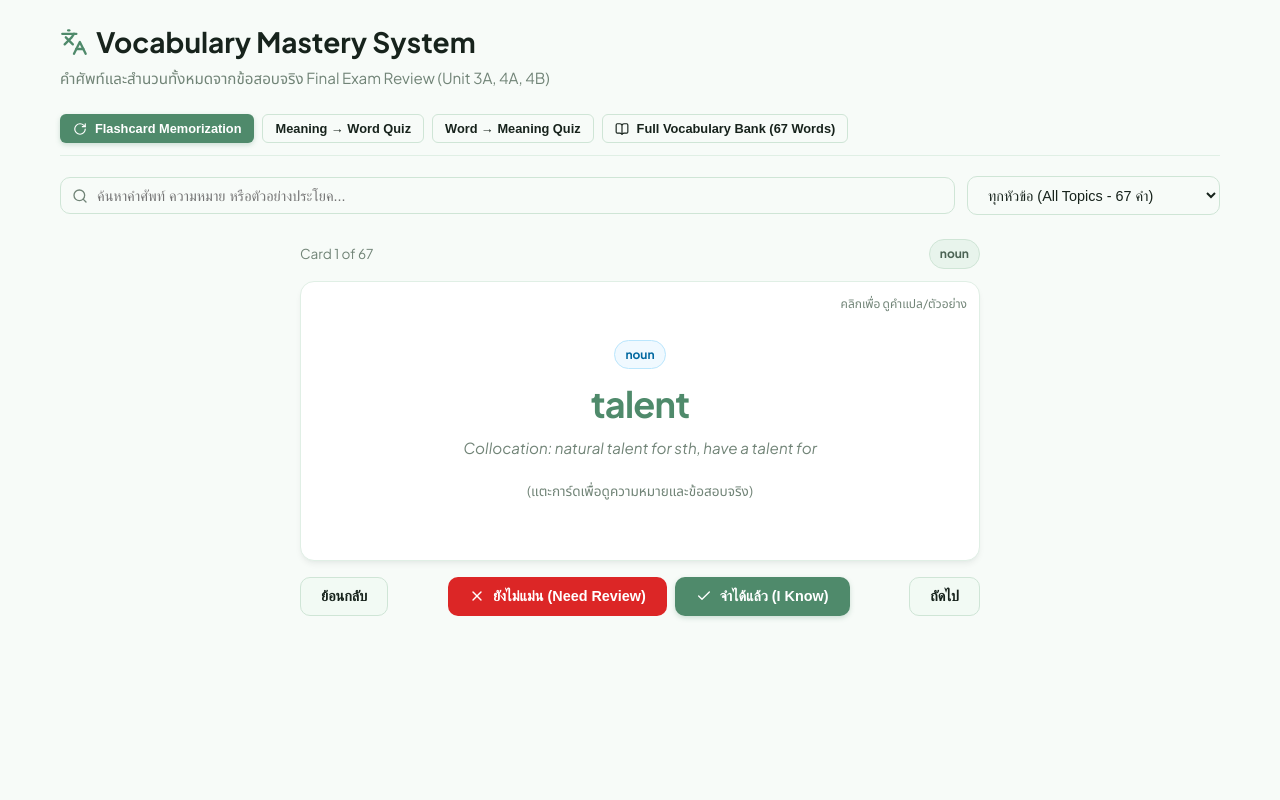
Scenario: VocabularyView — Quiz Regression Tests › TEST 7: Switching quiz mode clears stale answer and feedback
// Enter Meaning → Word mode
Step 1. Click the button "Meaning → Word Quiz" → [343, 129], box [262,114,424,143]
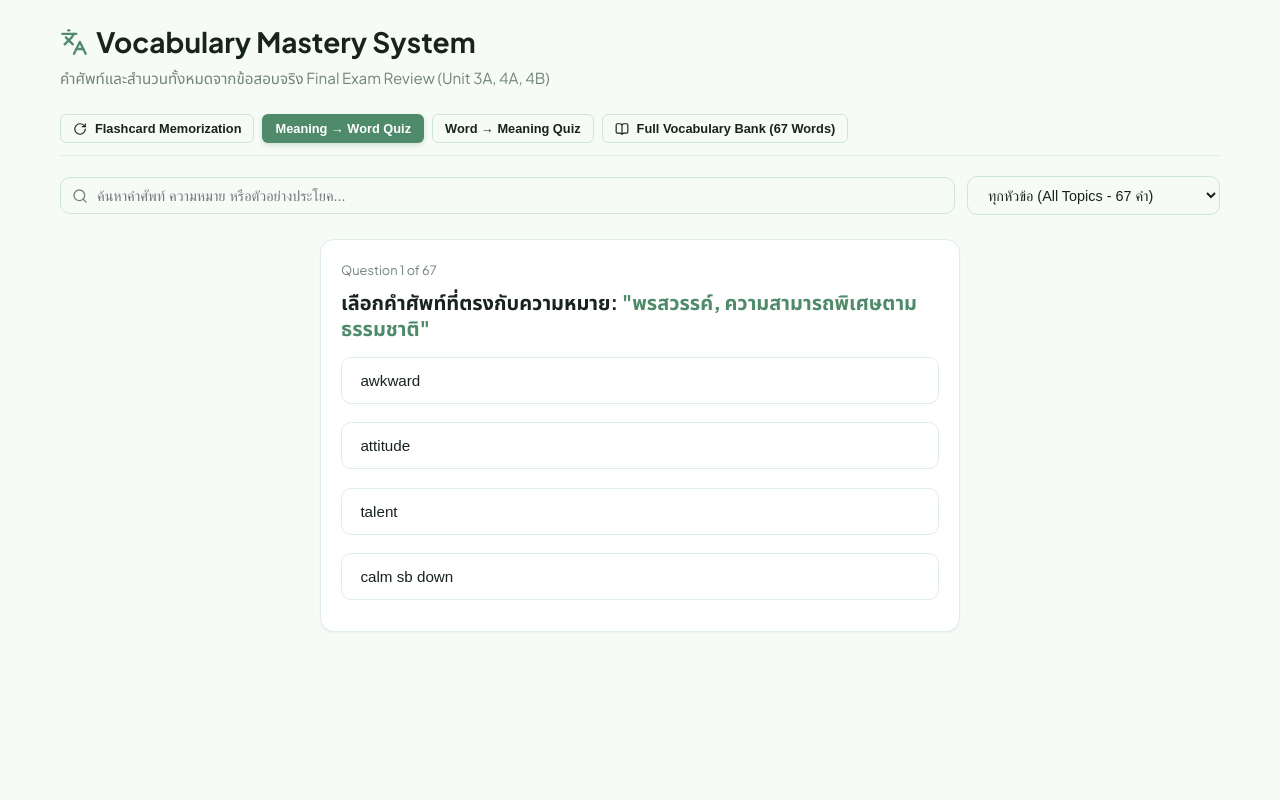
Step 2. Click the button "awkward" → [390, 380], box [341,357,939,404]
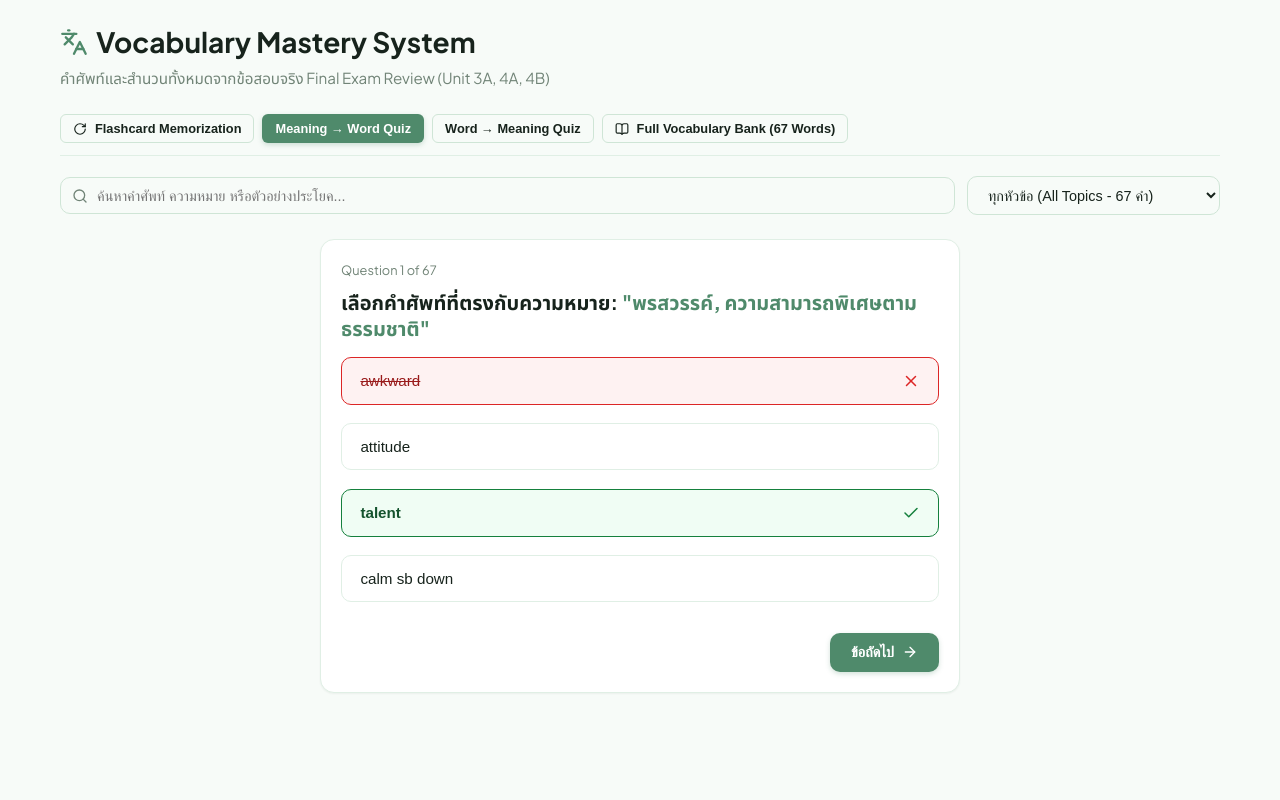
Expected: the button "ข้อถัดไป" is shown, [830,632,939,672]
// Switch to Word → Meaning mode
Step 3. Click the button "Word → Meaning Quiz" → [513, 129], box [432,114,594,143]
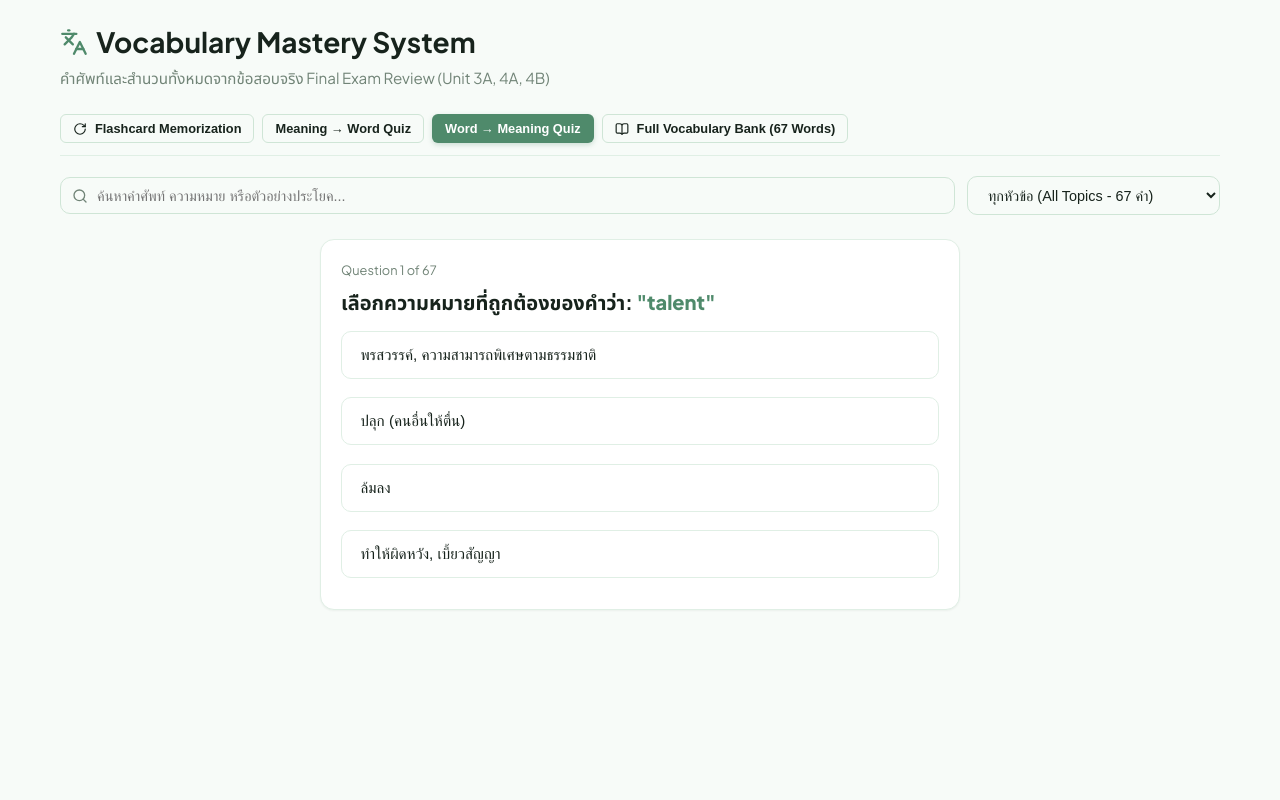
Expected: the button "ข้อถัดไป" is gone
Expected: the button "พรสวรรค์, ความสามารถพิเศษตามธรรมชาติ" is enabled, [341,331,939,379]
Expected: the button "ปลุก (คนอื่นให้ตื่น)" is enabled, [341,397,939,445]
